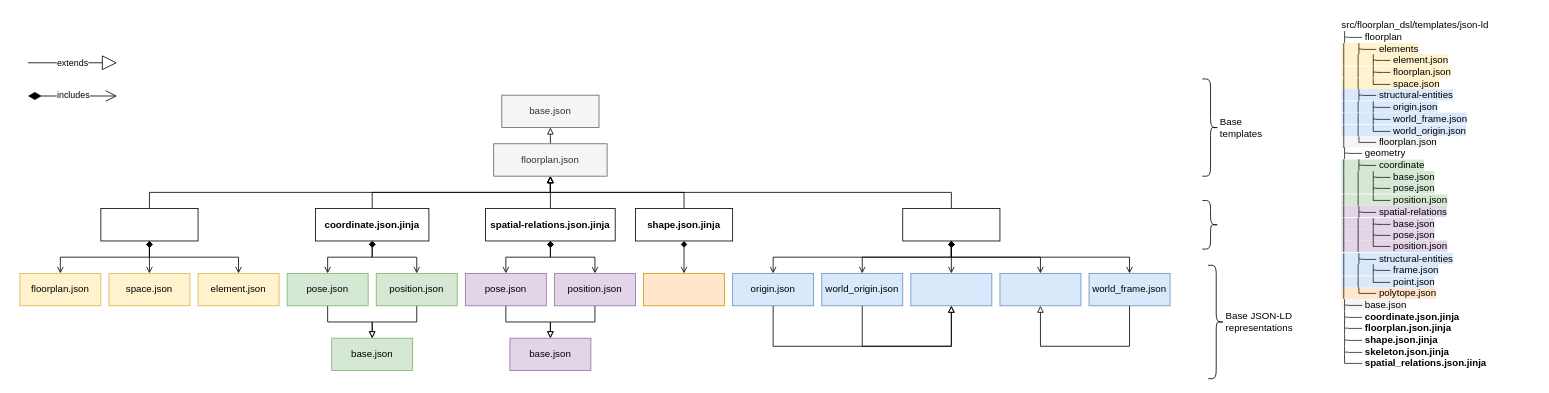
Some shapes in this 1549 by 393 pixel diagram are drawn without their labels. Here are the shapes that lost their labels. From the top down, the centre of each, then its label:
At (149,224): "floorplan.json.jinja".
At (951,224): "skeleton.json.jinja".
At (1210,224): "Templates used by generators".
At (684,289): "polytope.json".
At (951,289): "point.json".
At (1040,289): "frame.json".
